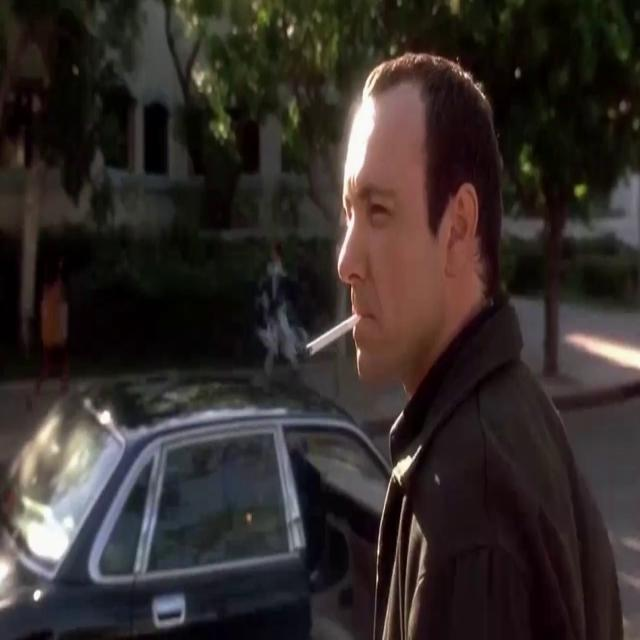Smooking: (300, 304, 362, 369)
